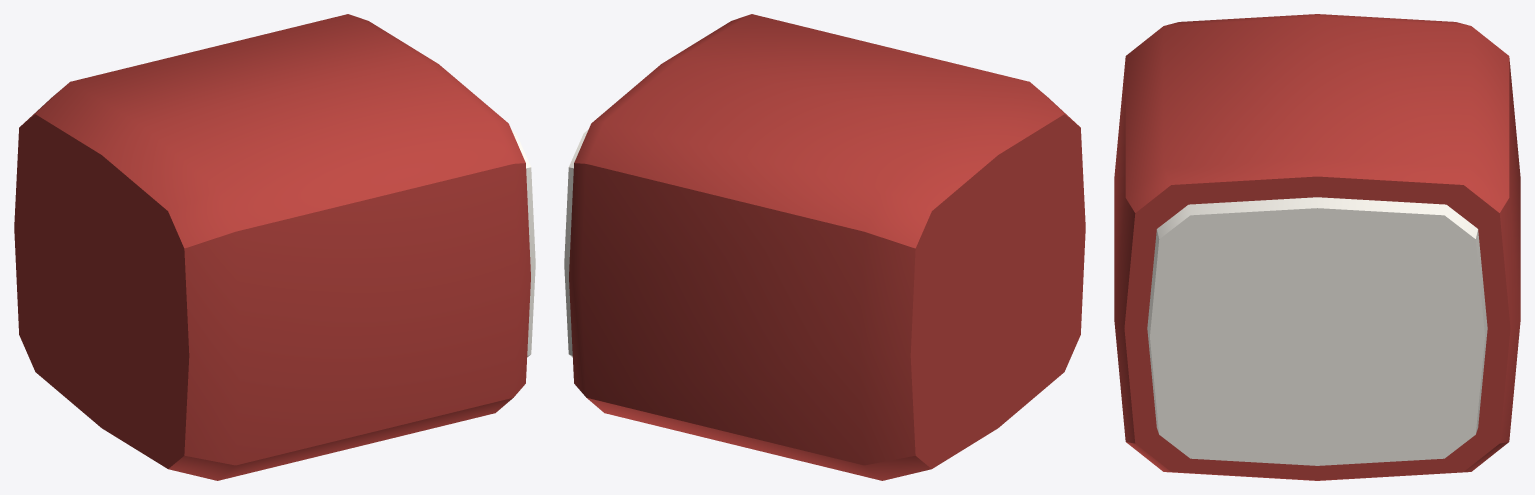
File: cell_lod1.glb
3 views of the same model, side by side, from view 1: azimuth 30°, elevation 25°; view 2: azimuth 150°, elevation 25°; view 3: azimuth 270°, elevation 25° (orthographic). The views are drawn at different scales.
Parts seen in each view (by area): view 1: cell_lod1; view 2: cell_lod1; view 3: cell_lod1.
Part boxes in pixels (box(x1,y1,x2,y2)): cell_lod1: box(14, 14, 535, 480); cell_lod1: box(564, 14, 1085, 480); cell_lod1: box(1114, 14, 1520, 480).
Bounding box in the file's own units: 0.084 × 0.07 × 0.08.
